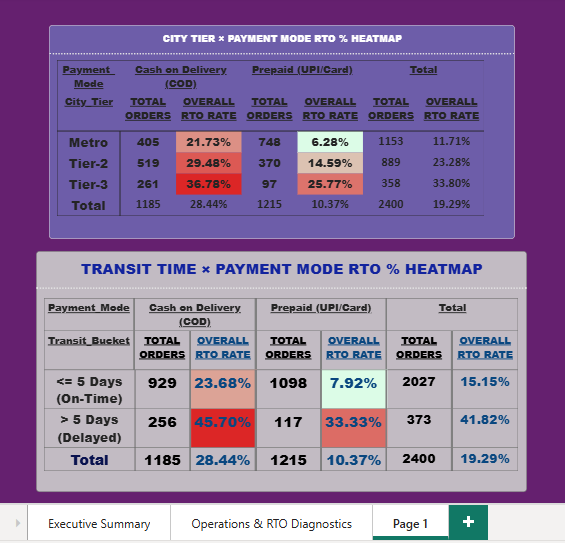

Layout of this report page (visuals, bound fields, positions):
{"tool":"powerbi","page":{"name":"Page 1","canvas":[1920,1080],"ordinal":2},"visuals":[{"type":"pivotTable","title":"TRANSIT TIME × PAYMENT MODE RTO % HEATMAP","fields":{"Columns":["Orders_Data.Payment_Mode"],"Rows":["Logistics_Shipments.Transit_Bucket"],"Values":["Measures_.TOTAL ORDERS","Measures_.OVERALL RTO RATE"]},"box":[291.1,539.4,1051,515.9],"z":0},{"type":"pivotTable","title":"CITY TIER × PAYMENT MODE RTO % HEATMAP","fields":{"Columns":["Orders_Data.Payment_Mode"],"Rows":["Customers_Master.City_Tier"],"Values":["Measures_.TOTAL ORDERS","Measures_.OVERALL RTO RATE"]},"box":[318.9,55.7,997.5,458.1],"z":1}]}

Visuals, with their boxes on the page's 1920x1080 design canvas (x1, y1, x2, y2). These are canvas units, not pixel positions in the 565x543 screenshot, which may show the page scaled, cropped or inside an application window:
"TRANSIT TIME × PAYMENT MODE RTO % HEATMAP" pivotTable: <bbox>291, 539, 1342, 1055</bbox>
"CITY TIER × PAYMENT MODE RTO % HEATMAP" pivotTable: <bbox>319, 56, 1316, 514</bbox>
